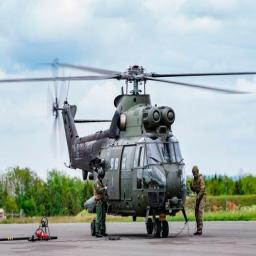helicopter: (7, 59, 253, 242)
